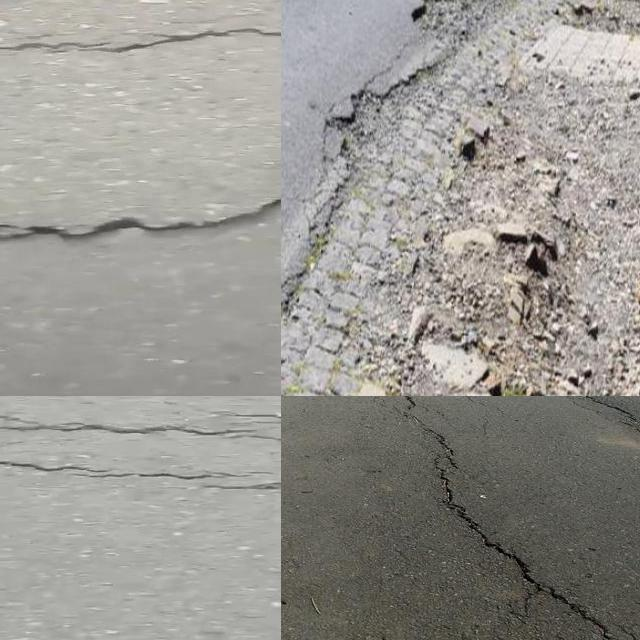Melintang: (0, 188, 281, 253), (0, 10, 281, 67), (0, 401, 281, 454), (0, 452, 281, 498)
Memanjang: (360, 396, 624, 640)
Pinggir: (281, 0, 570, 396)
